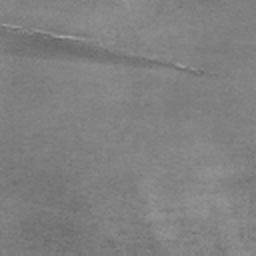Finishing roll printing: (0, 24, 205, 75)
